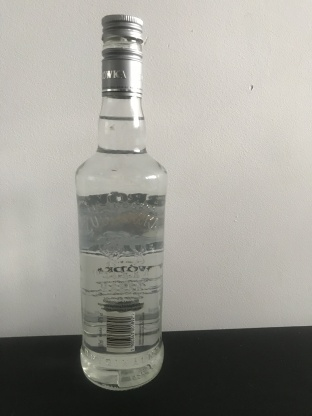nakretka: (100, 13, 143, 99)
